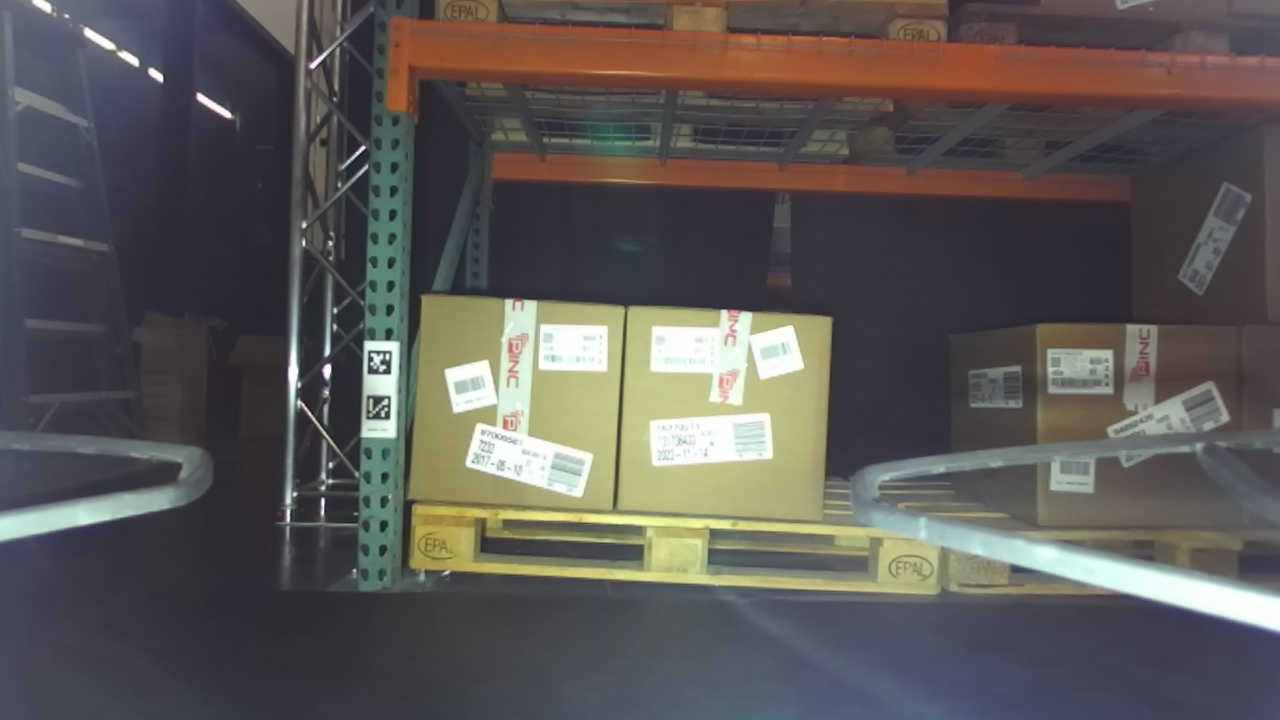box: (401, 274, 652, 527), (601, 282, 846, 538), (1020, 311, 1261, 549)
